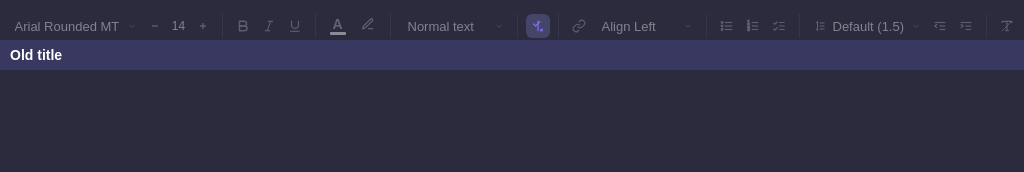
Test case: a tile title being typed › is saved when focus goes into the toolbar and from there to the canvas
Double-click the button with class "tile-title": (36, 55) [10,44,62,66]
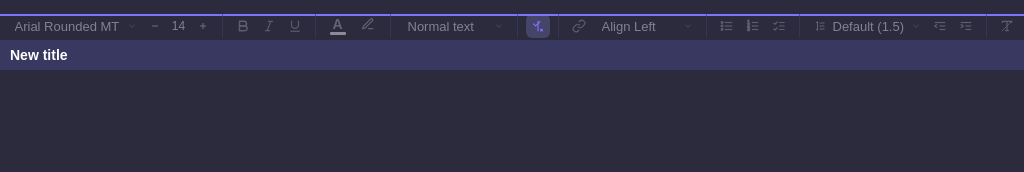
Now the button "New title" is shown, box [10,44,68,66]
